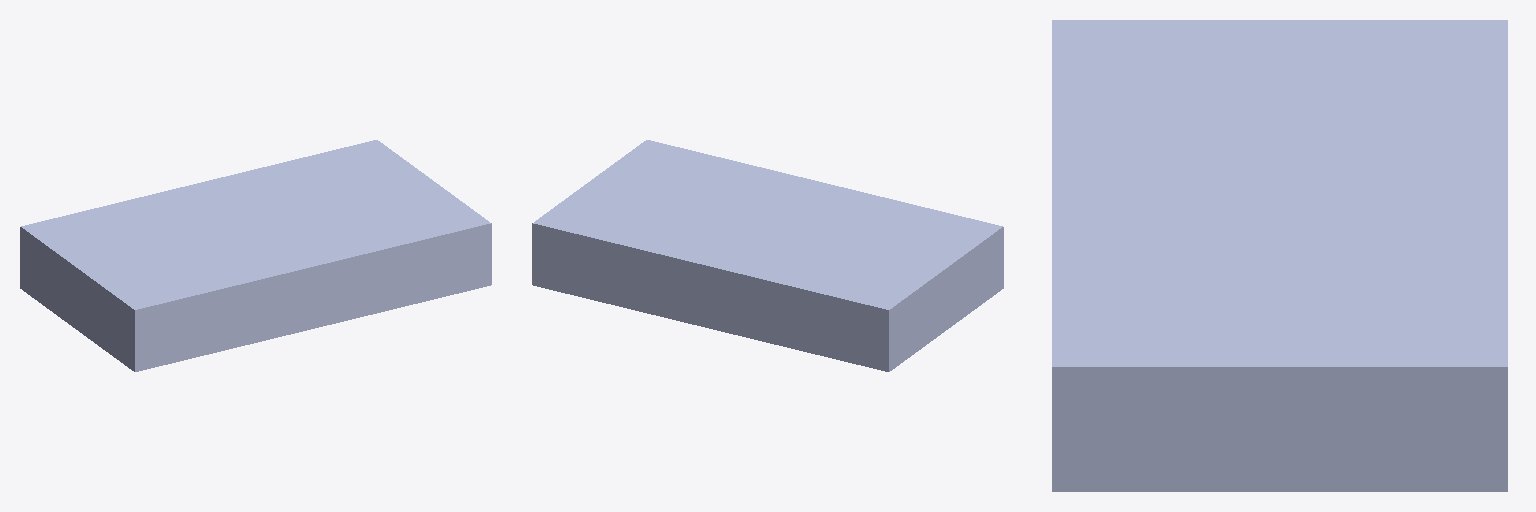
The robot description file, URDF, robot "Part1":
<?xml version="1.0" encoding="utf-8"?>
<!-- This URDF was automatically created by SolidWorks to URDF Exporter! Originally created by [author] ([email redacted]) 
     Commit Version: 1.5.1-0-g916b5db  Build Version: 1.5.7152.31018
     For more information, please see http://wiki.ros.org/sw_urdf_exporter -->
<robot
  name="Part1">
  <link
    name="plateau_2">
    <inertial>
      <origin
        xyz="1.6653E-16 -2.31637261731661E-17 0.075"
        rpy="0 0 0" />
      <mass
        value="67.5" />
      <inertia
        ixx="1.5328"
        ixy="5.6668E-16"
        ixz="3.16886964292032E-32"
        iyy="4.6828"
        iyz="7.83564375493248E-17"
        izz="5.9625" />
    </inertial>
    <visual>
      <origin
        xyz="0 0 0"
        rpy="1.5707963267949 0 0" />
      <geometry>
        <mesh
          filename="package://suii_description/Field/plateau/meshes/plateau.STL" />
      </geometry>
      <material
        name="">
        <color
          rgba="0.79216 0.81961 0.93333 1" />
        <texture
          filename="package://suii_description/Field/plateau/textures/" />
      </material>
    </visual>
    <collision>
      <origin
        xyz="0 0 0"
        rpy="1.5707963267949 0 0" />
      <geometry>
        <mesh
          filename="package://suii_description/Field/plateau/meshes/plateau.STL" />
      </geometry>
    </collision>
  </link>
</robot>

--- Facts derived from the render (not from the file) ---
Views: 3 orthographic renders of the robot side by side, from view 1: azimuth 30°, elevation 25°; view 2: azimuth 150°, elevation 25°; view 3: azimuth 270°, elevation 25°.
Robot: Part1 — 1 links, 0 joints (none); root link plateau_2; default pose: all joints at 0.
Visible links, largest first — view 1: plateau_2; view 2: plateau_2; view 3: plateau_2.
Boxes of the visible links, x1,y1,x2,y2 form: plateau_2: (20, 140, 491, 371); plateau_2: (532, 140, 1003, 371); plateau_2: (1052, 20, 1507, 491).
Bounding box of the posed robot: 0.9 × 0.5 × 0.15 m (x, y, z).
Meshes: 1 distinct files referenced, 1 mesh visuals loaded (1 binary STL).
